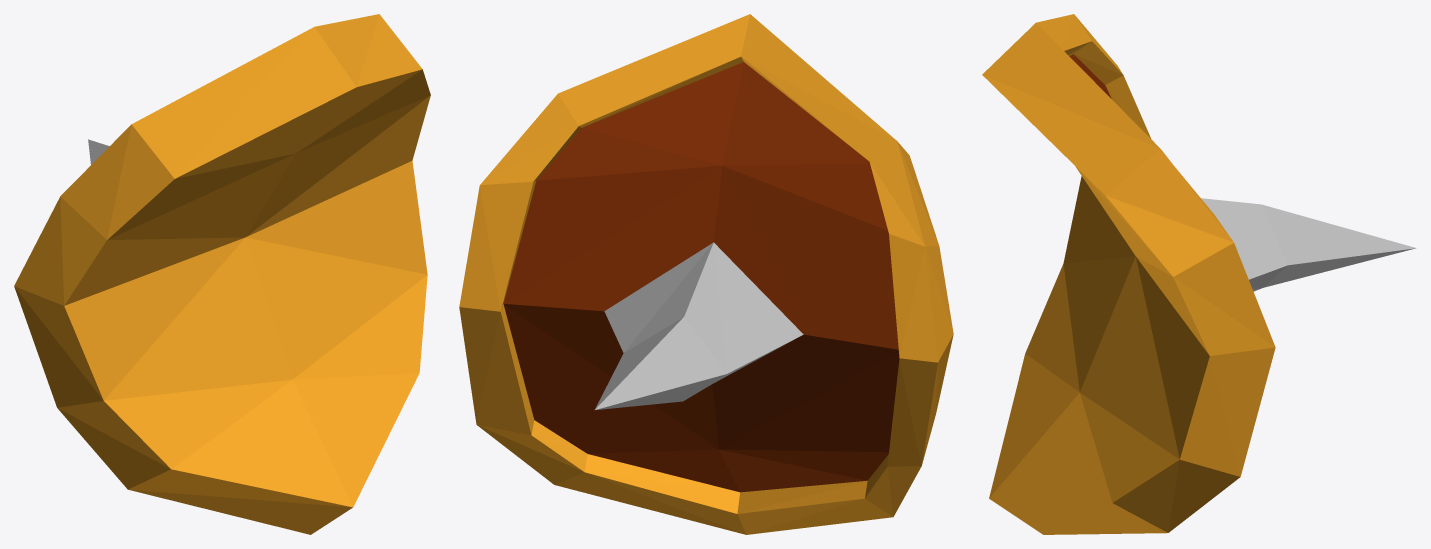
File: Pauldron 10.FBX
The picture shows the model from 3 angles, left to right: view 1: azimuth 30°, elevation 25°; view 2: azimuth 150°, elevation 25°; view 3: azimuth 270°, elevation 25°; orthographic projection.
Parts seen in each view (by area): view 1: Pauldron 10; view 2: Pauldron 10; view 3: Pauldron 10.
Boxes of the visible parts, <box> form: Pauldron 10: <box>14,14,430,534</box>; Pauldron 10: <box>459,14,953,534</box>; Pauldron 10: <box>982,14,1416,534</box>.
Bounding box in the file's own units: 31.09 × 27.31 × 35.49.
